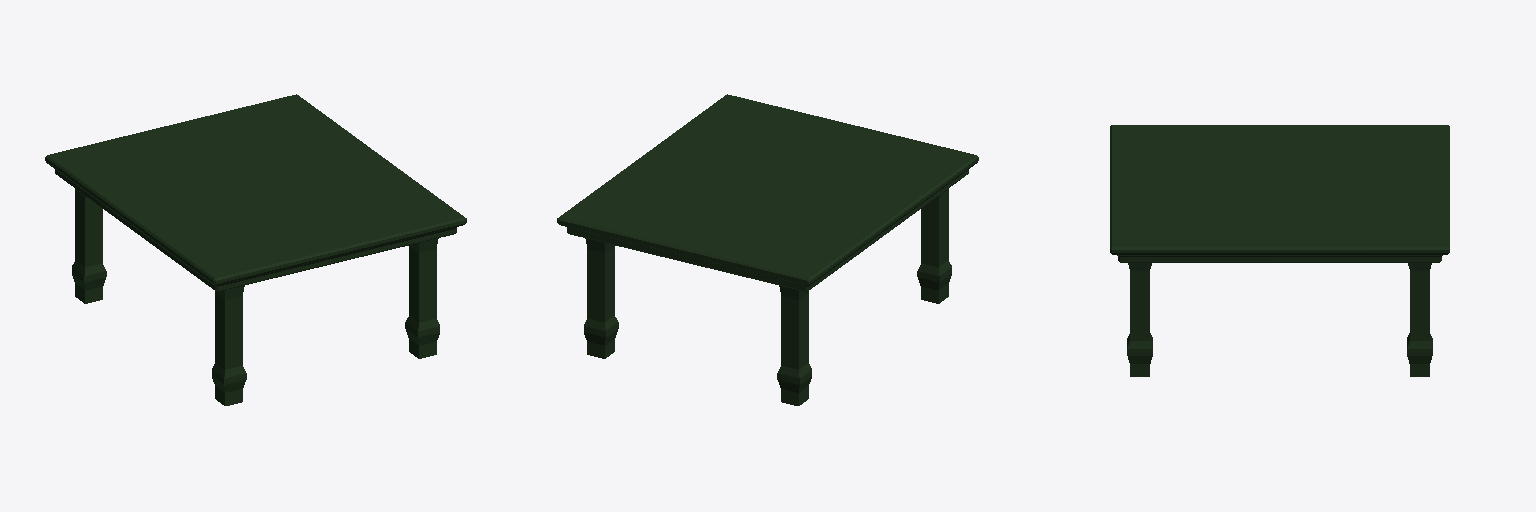
The model's file is Texture_Table.obj.
3 renders of one model, left to right at view 1: azimuth 30°, elevation 25°; view 2: azimuth 150°, elevation 25°; view 3: azimuth 270°, elevation 25°, orthographic.
Visible parts, largest first — view 1: pCube6; view 2: pCube6; view 3: pCube6.
Boxes of the visible parts, <box> form: pCube6: <box>45,94,466,405</box>; pCube6: <box>557,94,978,405</box>; pCube6: <box>1110,125,1449,376</box>.
Size of the model in its own units: 10.46 by 5.5 by 12.17.